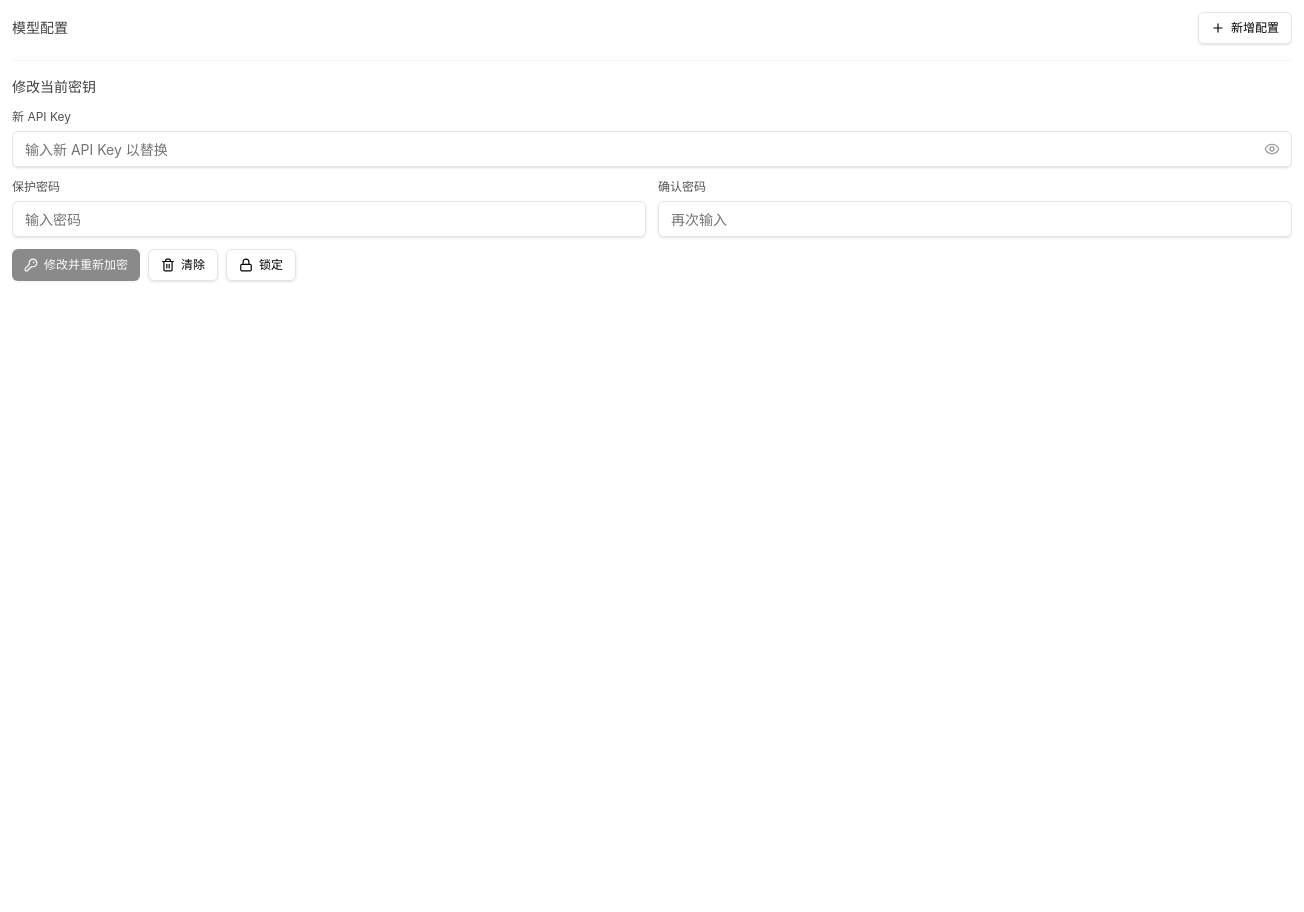
Test: APISettings - Mode C: unlocked with API key › shows inline validation hints in the add-config form
Click the button "新增配置": (1245, 28) [1198,12,1292,44]
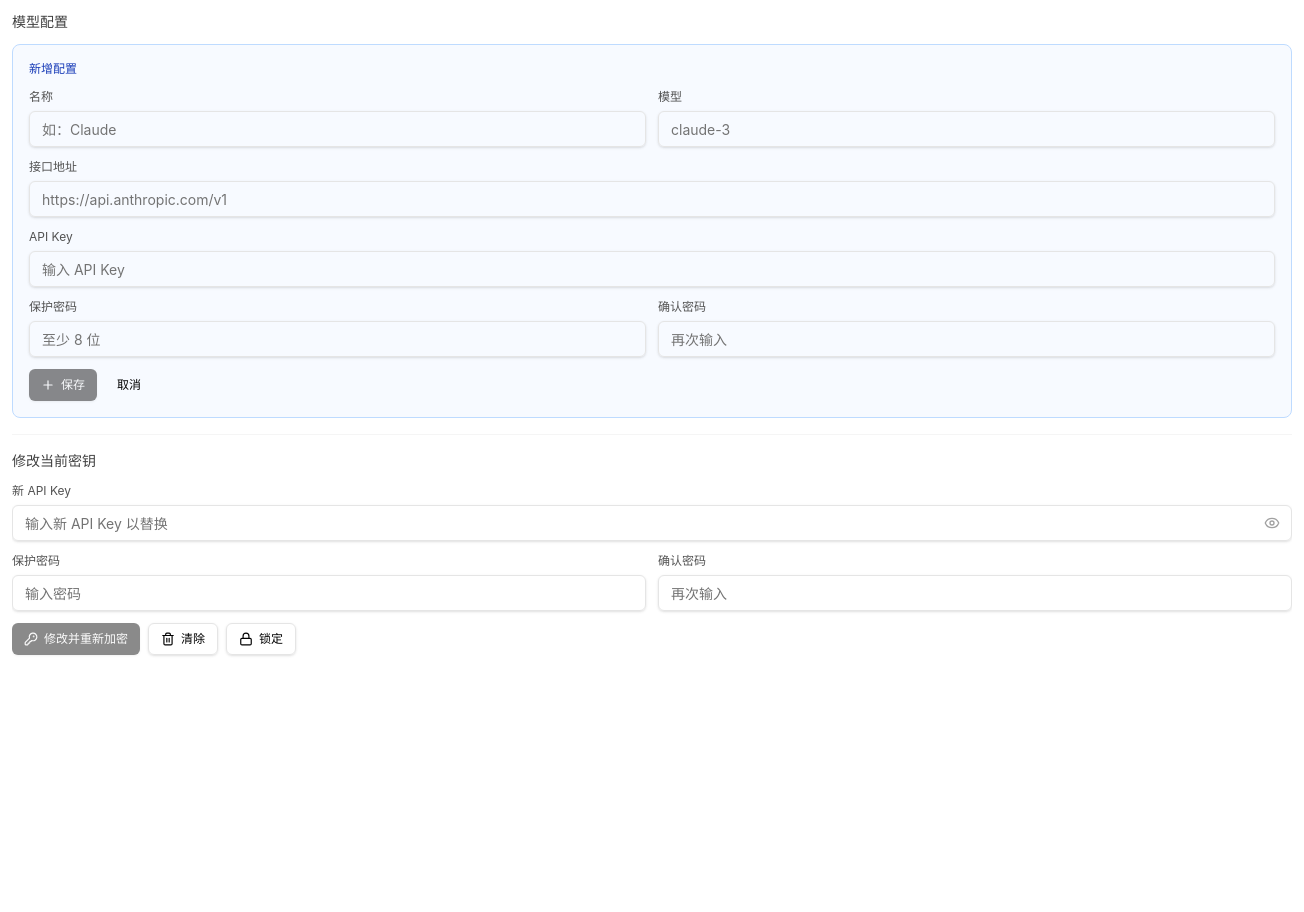
In the password field labelled "保护密码" below "接口地址": (338, 339) [29,321,646,357], type "abc"
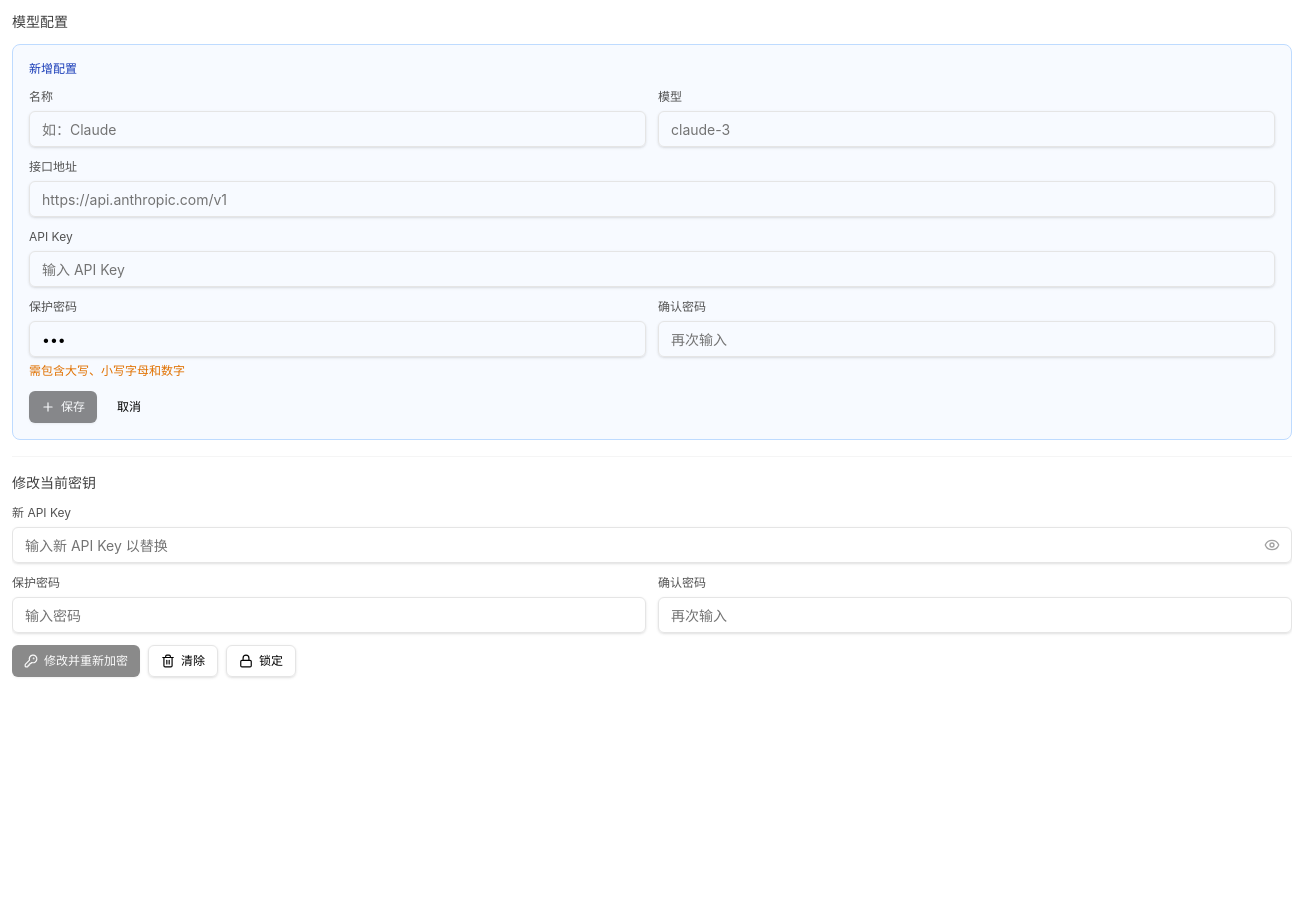
Now the text "需包含大写、小写字母和数字" is shown, box [29,363,185,378]
In the password field labelled "保护密码" below "接口地址": (338, 339) [29,321,646,357], type "ClaudePass1"
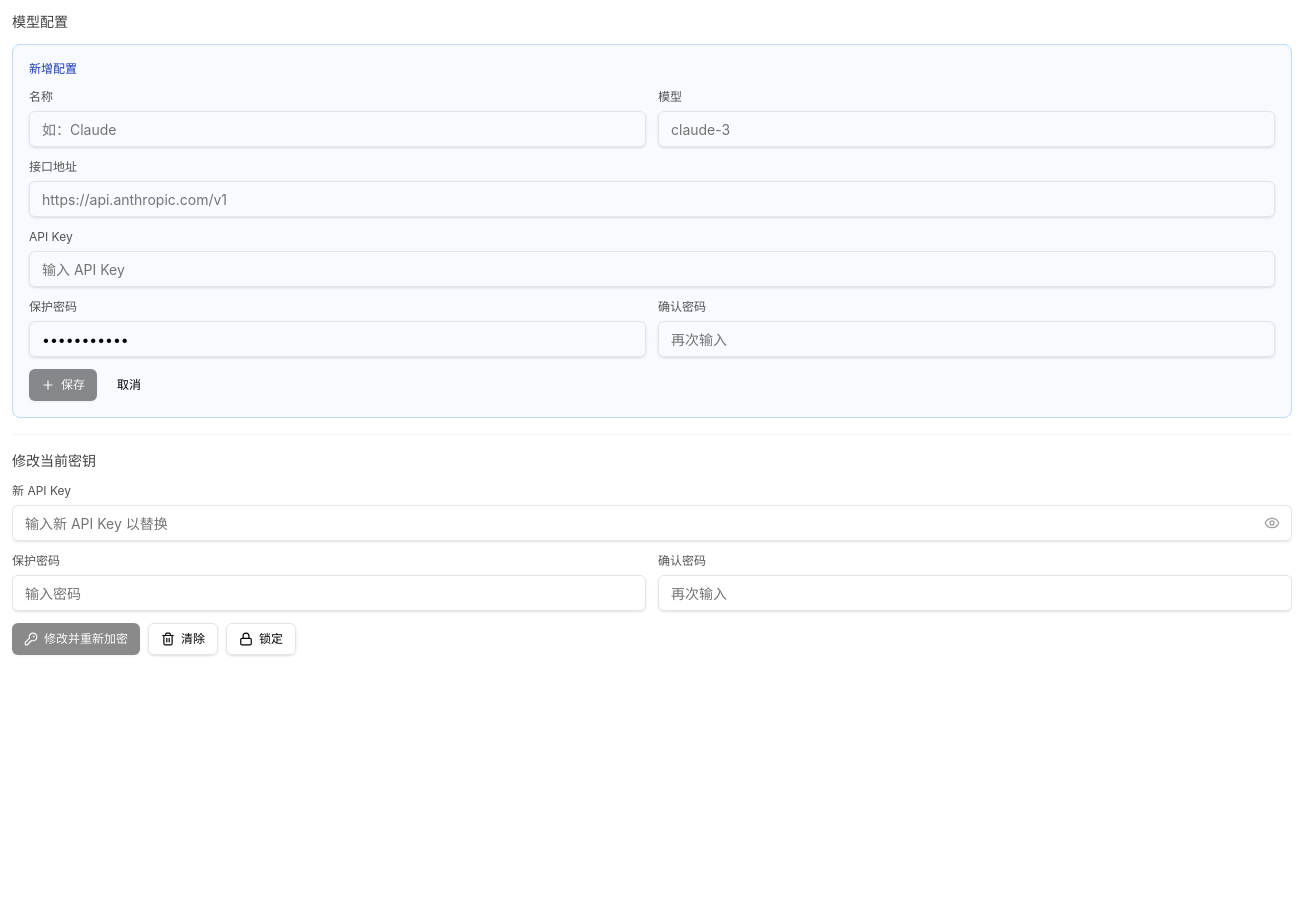
In the 1st password field labelled "确认密码": (966, 339) [658,321,1275,357], type "Different1"
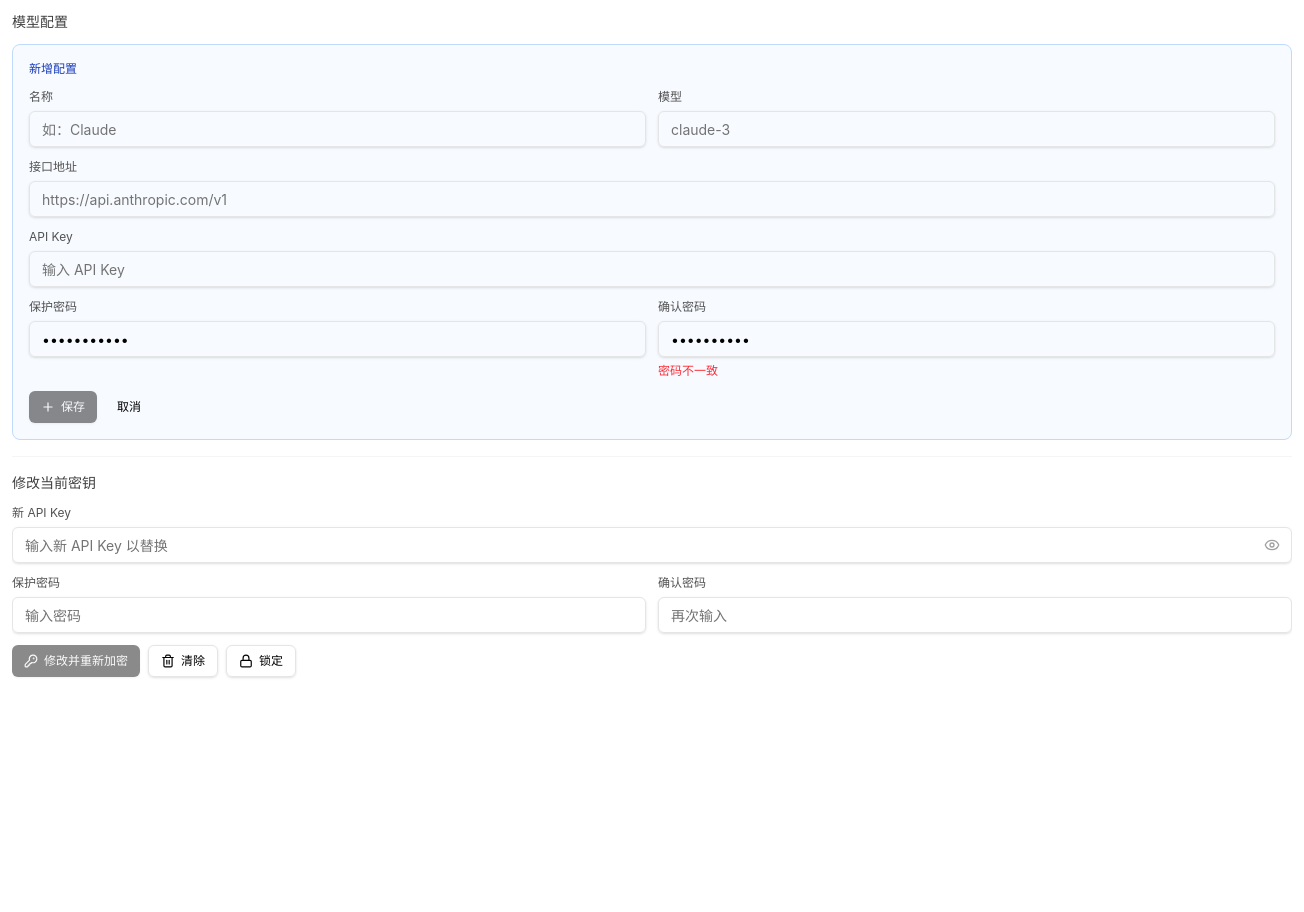
Now the text "密码不一致" is shown, box [658,363,718,378]
